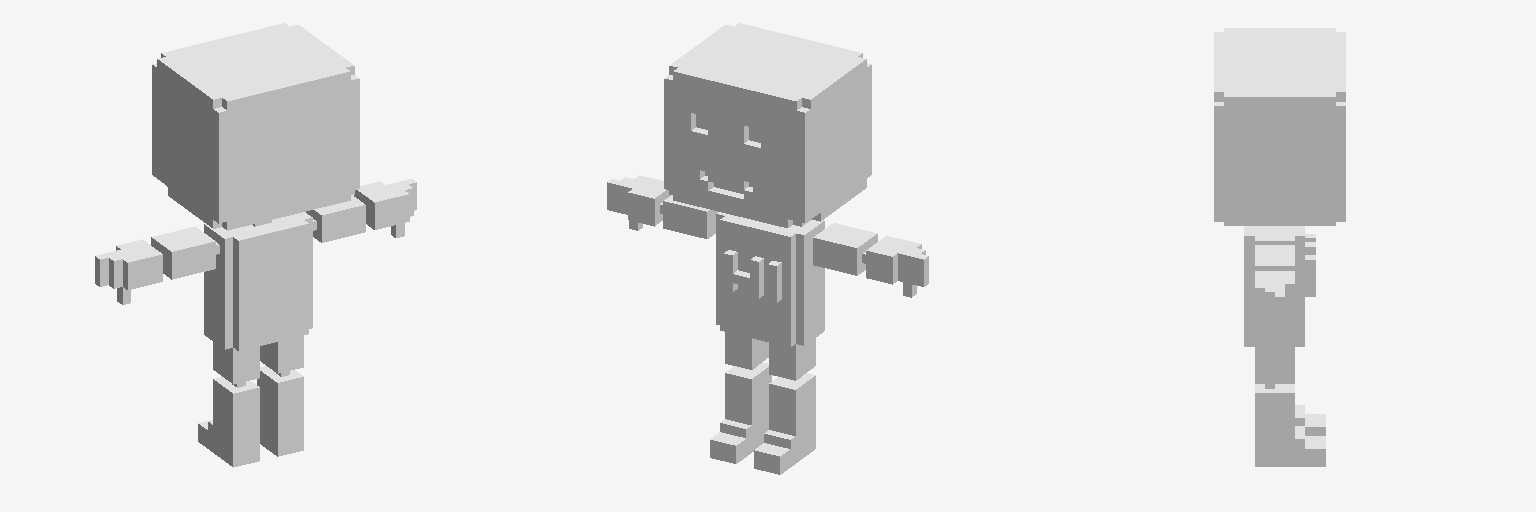
The model's file is Nomguy.obj.
The picture shows the model from 3 angles: view 1: azimuth 30°, elevation 25°; view 2: azimuth 150°, elevation 25°; view 3: azimuth 270°, elevation 25°; orthographic projection.
Bounding box in the file's own units: 36 × 42 × 13.